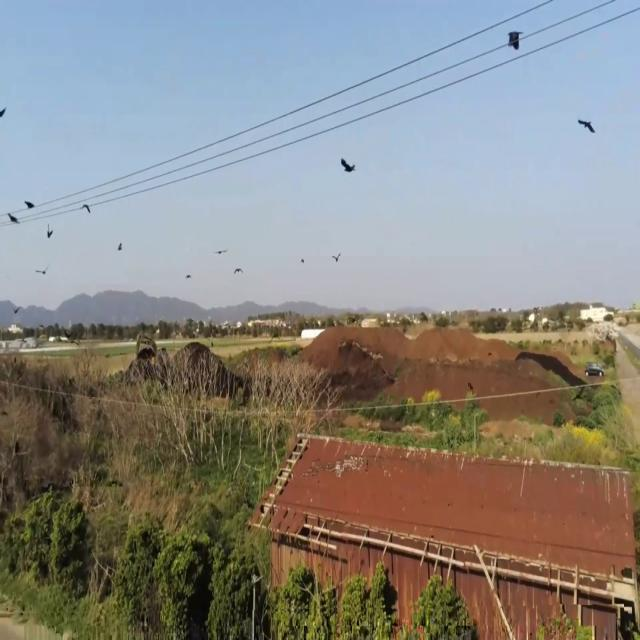bird: (577, 110, 595, 142), (340, 152, 355, 180), (508, 24, 520, 56), (7, 206, 18, 229), (24, 194, 34, 213), (82, 197, 91, 218), (216, 242, 227, 259), (233, 261, 243, 279), (332, 249, 341, 265), (0, 102, 6, 125), (47, 223, 54, 240), (118, 239, 122, 255), (300, 254, 304, 266)
